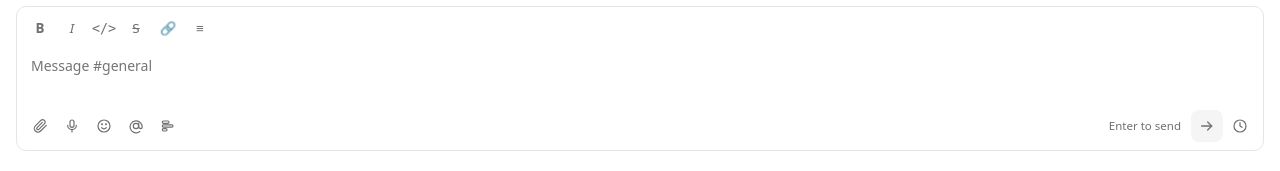
it: the composer formatting toolbar › wraps the selection as a markdown link
Step 1. Type "hello" into the text box with placeholder "Message #general" → (640, 73), box [17, 43, 1263, 104]
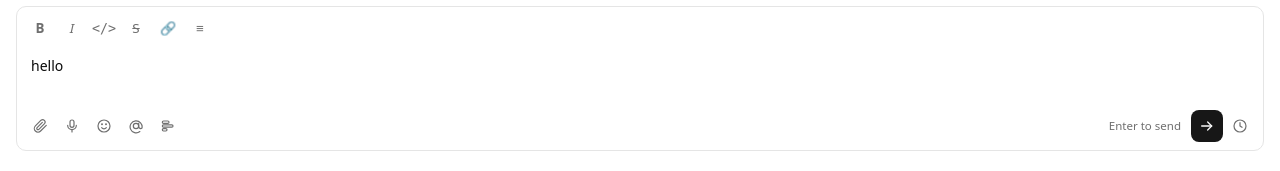
Step 2. Click the button named "Link" → click(168, 28), box [153, 13, 183, 43]
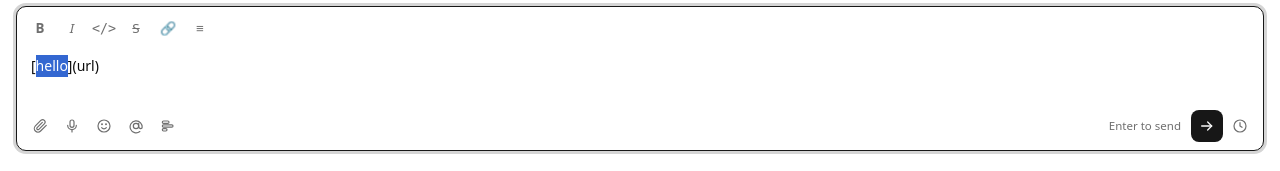
Now the text box with placeholder "Message #general" holds "[hello](url)", box [17, 43, 1263, 104]
